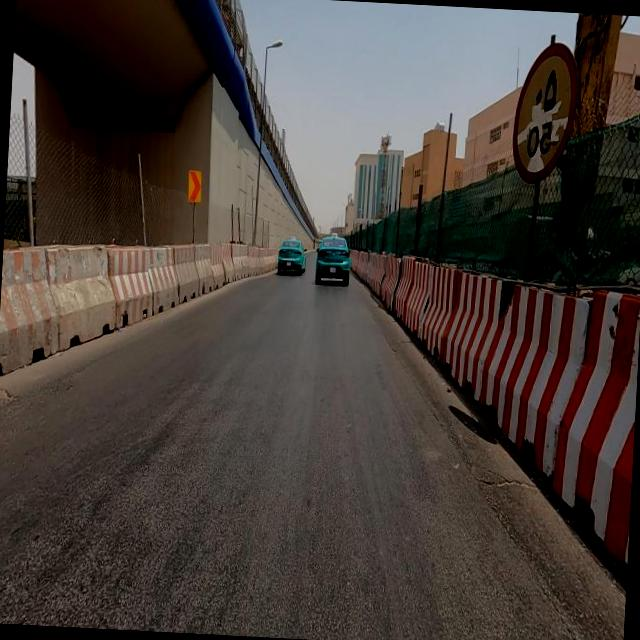debris: (456, 8, 620, 336)
